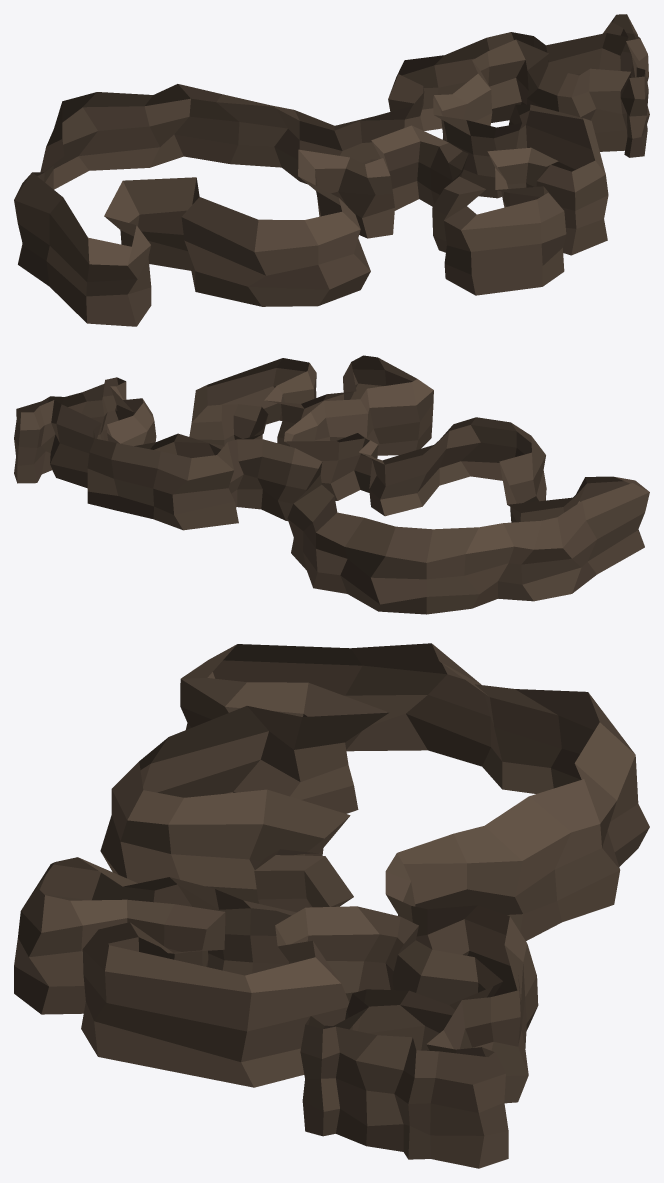
3 views of the same model, one above another, from view 1: azimuth 30°, elevation 25°; view 2: azimuth 150°, elevation 25°; view 3: azimuth 270°, elevation 25° (orthographic). The views are drawn at different scales.
Parts seen in each view (by area): view 1: Vert; view 2: Vert; view 3: Vert.
Boxes of the visible parts, bbox=[...] form: Vert: bbox=[14, 14, 649, 326]; Vert: bbox=[14, 355, 649, 614]; Vert: bbox=[14, 643, 649, 1168].
Bounding box in the file's own units: 847 × 118 × 536.
